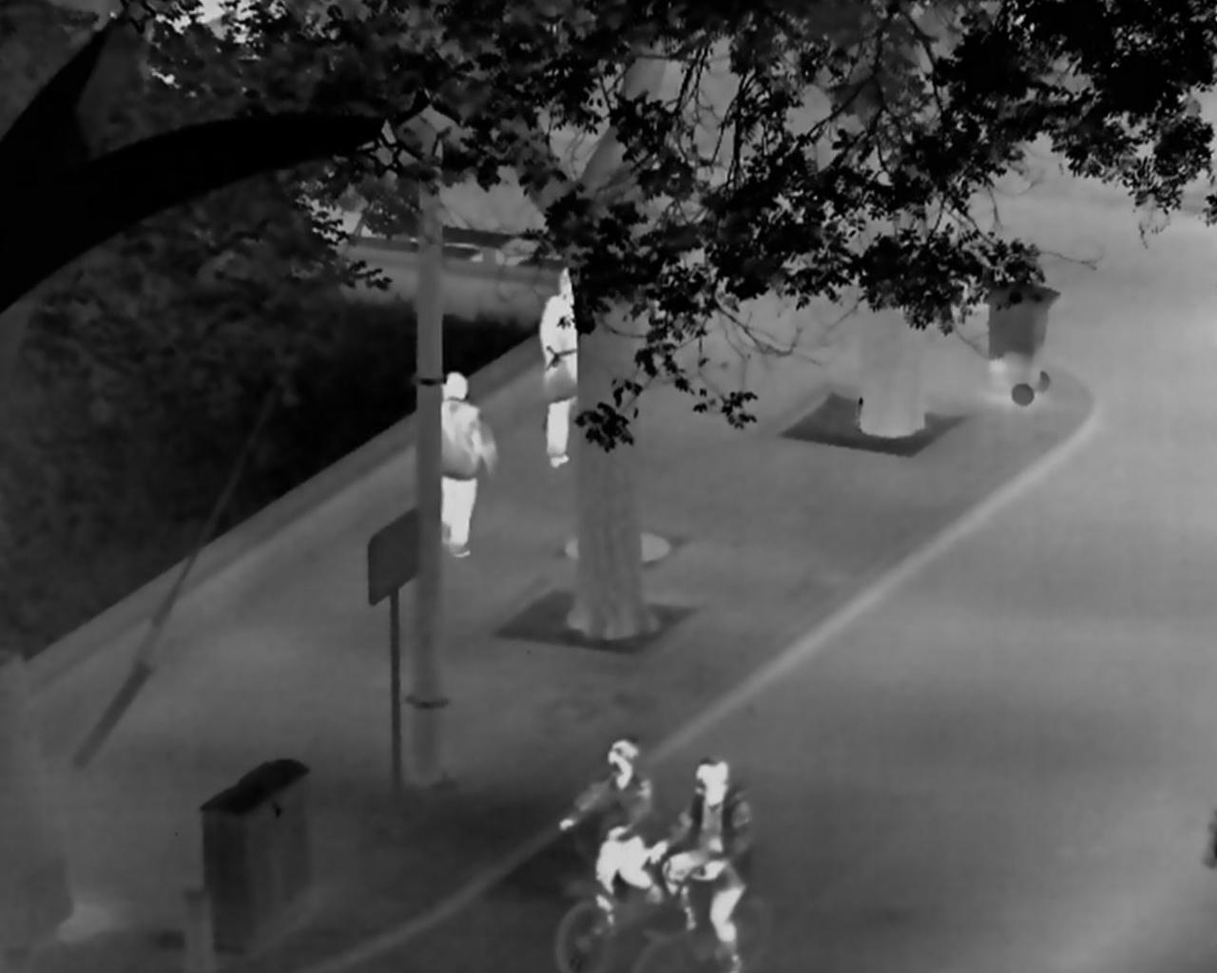person: (650, 756, 752, 968), (559, 735, 666, 935), (441, 368, 497, 559), (536, 265, 576, 470)
